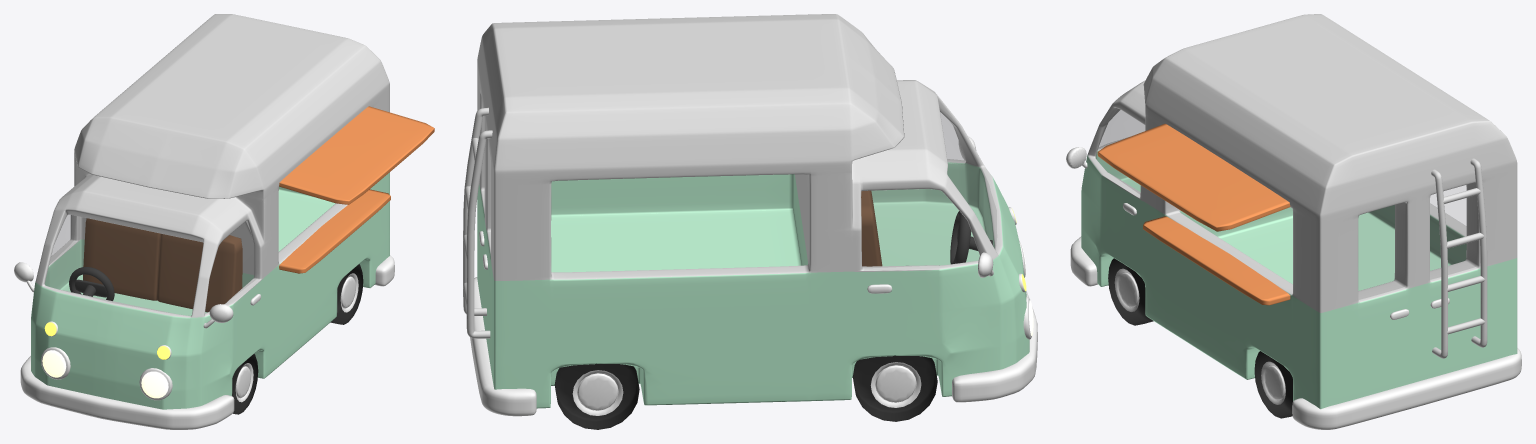
Rendered from food_truck.glb.
The picture shows the model from 3 angles, left to right: view 1: azimuth 30°, elevation 25°; view 2: azimuth 150°, elevation 25°; view 3: azimuth 270°, elevation 25°; orthographic projection. The views are drawn at different scales.
Visible parts, largest first — view 1: Body_0, Windscreen_3, Awning_4, Seat_7, Bumber_5, Wheel_1, Headlight_2, Hand Wheel_8, Mirror_6; view 2: Body_0, Windscreen_3, Wheel_1, Bumber_5, Ladder_10, Seat_7, Hand Wheel_8, Headlight_2; view 3: Body_0, Awning_4, Windscreen_3, Bumber_5, Ladder_10, Wheel_1.
Part boxes in pixels (x1,y1,x2,y2): Body_0: (31,14,389,409); Windscreen_3: (45,214,255,315); Awning_4: (279,106,434,273); Seat_7: (83,218,242,312); Bumber_5: (20,255,394,429); Wheel_1: (232,264,363,414); Headlight_2: (41,321,172,400); Hand Wheel_8: (69,267,114,300); Mirror_6: (14,262,233,328); Body_0: (477,14,1029,408); Windscreen_3: (861,108,996,267); Wheel_1: (554,356,937,429); Bumber_5: (470,277,1037,416); Ladder_10: (463,107,492,338); Seat_7: (861,190,882,266); Hand Wheel_8: (950,211,992,264); Headlight_2: (1008,207,1033,339); Body_0: (1081,14,1517,409); Awning_4: (1097,123,1290,305); Windscreen_3: (1096,109,1475,299); Bumber_5: (1070,236,1521,429); Ladder_10: (1431,158,1487,358); Wheel_1: (1108,258,1292,418).
Size of the model in its own units: 4.24 by 2.53 by 3.73.
